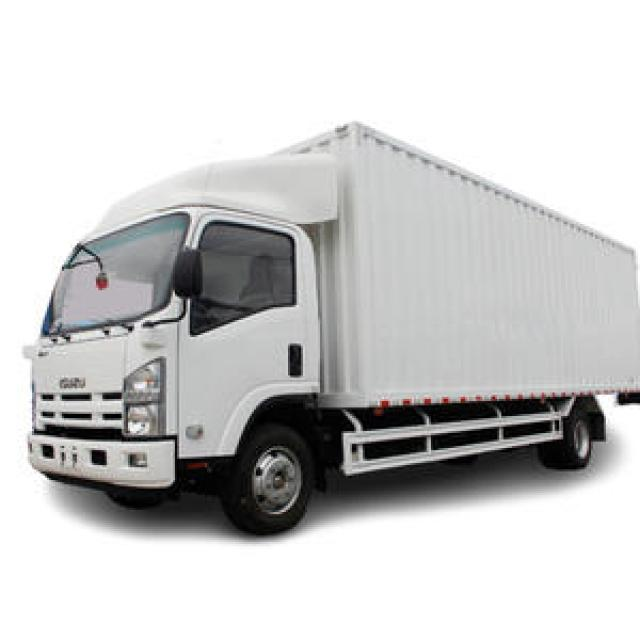truck: (25, 124, 640, 533)
